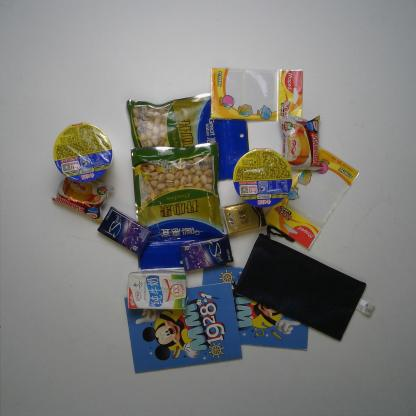Dessert: (50, 174, 115, 224), (279, 113, 324, 173)
Dried Fruit: (129, 141, 227, 272), (125, 92, 251, 182)
Gum: (96, 205, 155, 257), (180, 233, 235, 272)
Instant Noodles: (51, 120, 113, 184), (232, 147, 293, 209)
Milk: (126, 270, 189, 310)
Stationery: (233, 225, 377, 341), (123, 280, 243, 375), (265, 142, 362, 251), (201, 265, 309, 352), (210, 66, 305, 122)
Tissue: (220, 201, 268, 236)
